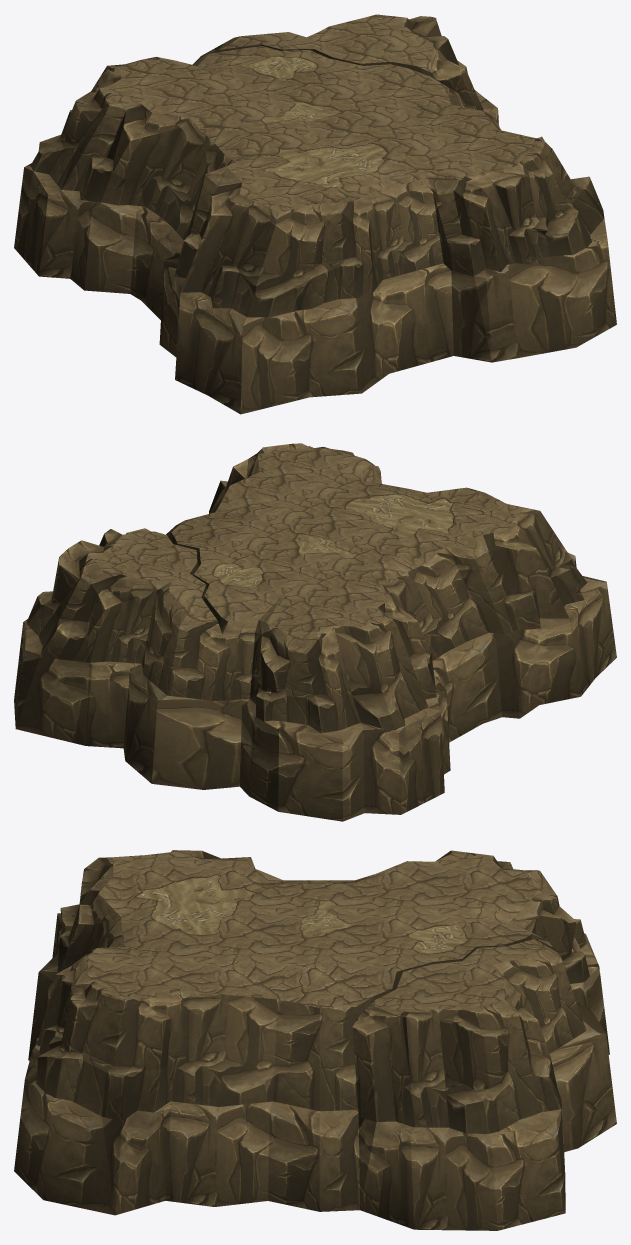
File: D_dimian002.fbx
3 renders of one model, top to bottom at view 1: azimuth 30°, elevation 25°; view 2: azimuth 150°, elevation 25°; view 3: azimuth 270°, elevation 25°, orthographic. The views are drawn at different scales.
Visible parts, largest first — view 1: D_dimian002; view 2: D_dimian002; view 3: D_dimian002.
Part boxes in pixels (x1,y1,x2,y2): D_dimian002: (14,14,616,414); D_dimian002: (14,443,616,821); D_dimian002: (14,850,616,1230).
Size of the model in its own units: 2372 by 846 by 2535.
